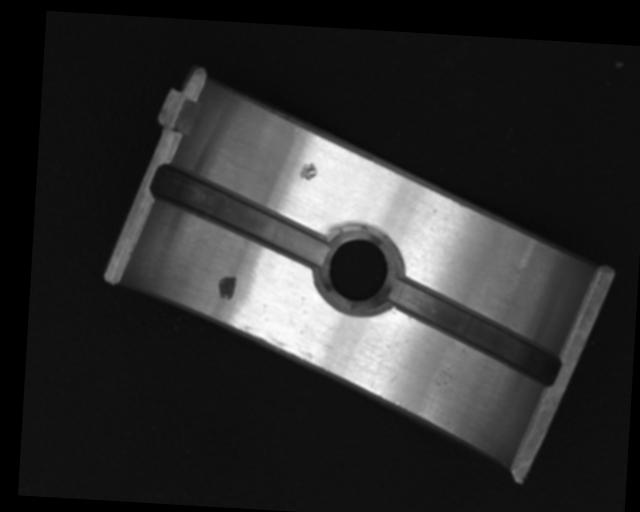blot: (216, 273, 237, 301)
bruise: (297, 160, 318, 181)
gap: (147, 162, 332, 270), (382, 276, 565, 384)
hole: (318, 223, 398, 310)
